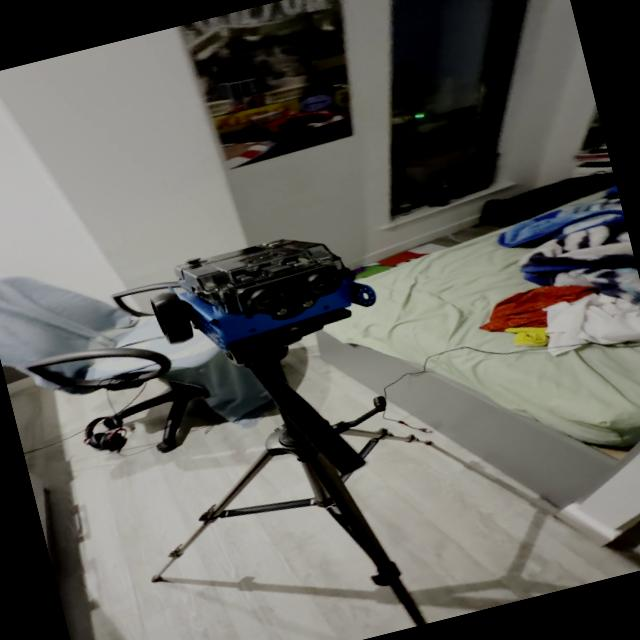mbot-detection: (136, 210, 388, 372)
